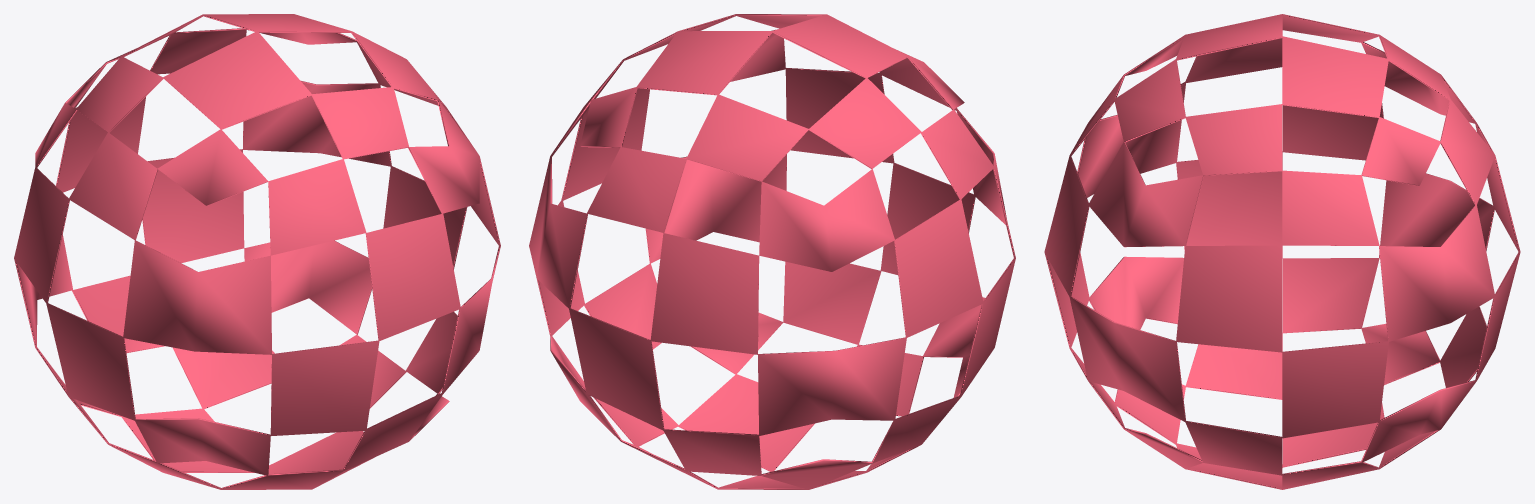
Rendered from CatToy1_MOD.fbx.
3 views of the same model, side by side, from view 1: azimuth 30°, elevation 25°; view 2: azimuth 150°, elevation 25°; view 3: azimuth 270°, elevation 25° (orthographic). The views are drawn at different scales.
Parts seen in each view (by area): view 1: Cube; view 2: Cube; view 3: Cube.
Boxes of the visible parts, x1,y1,x2,y2 form: Cube: (14, 14, 500, 489); Cube: (529, 14, 1015, 489); Cube: (1044, 14, 1520, 489).
Size of the model in its own units: 5.08 by 5.08 by 5.08.
